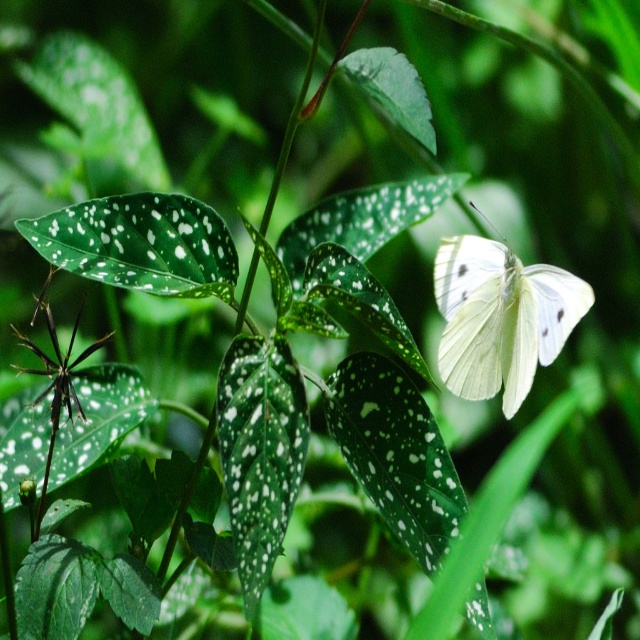Moths and butterflies: (428, 200, 594, 427)
